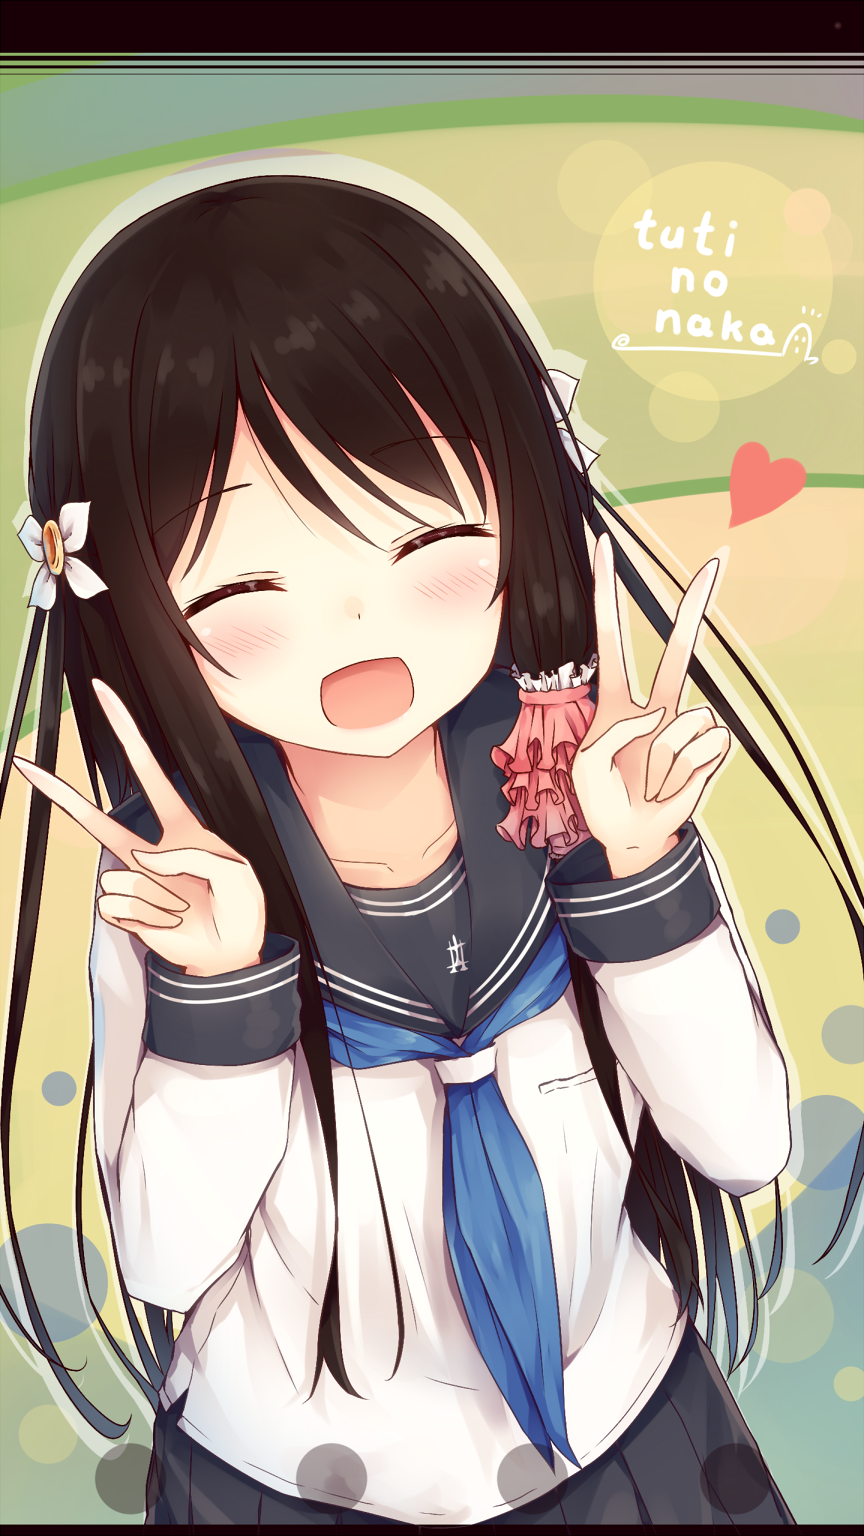纸片人正脸: (44, 153, 593, 760)
